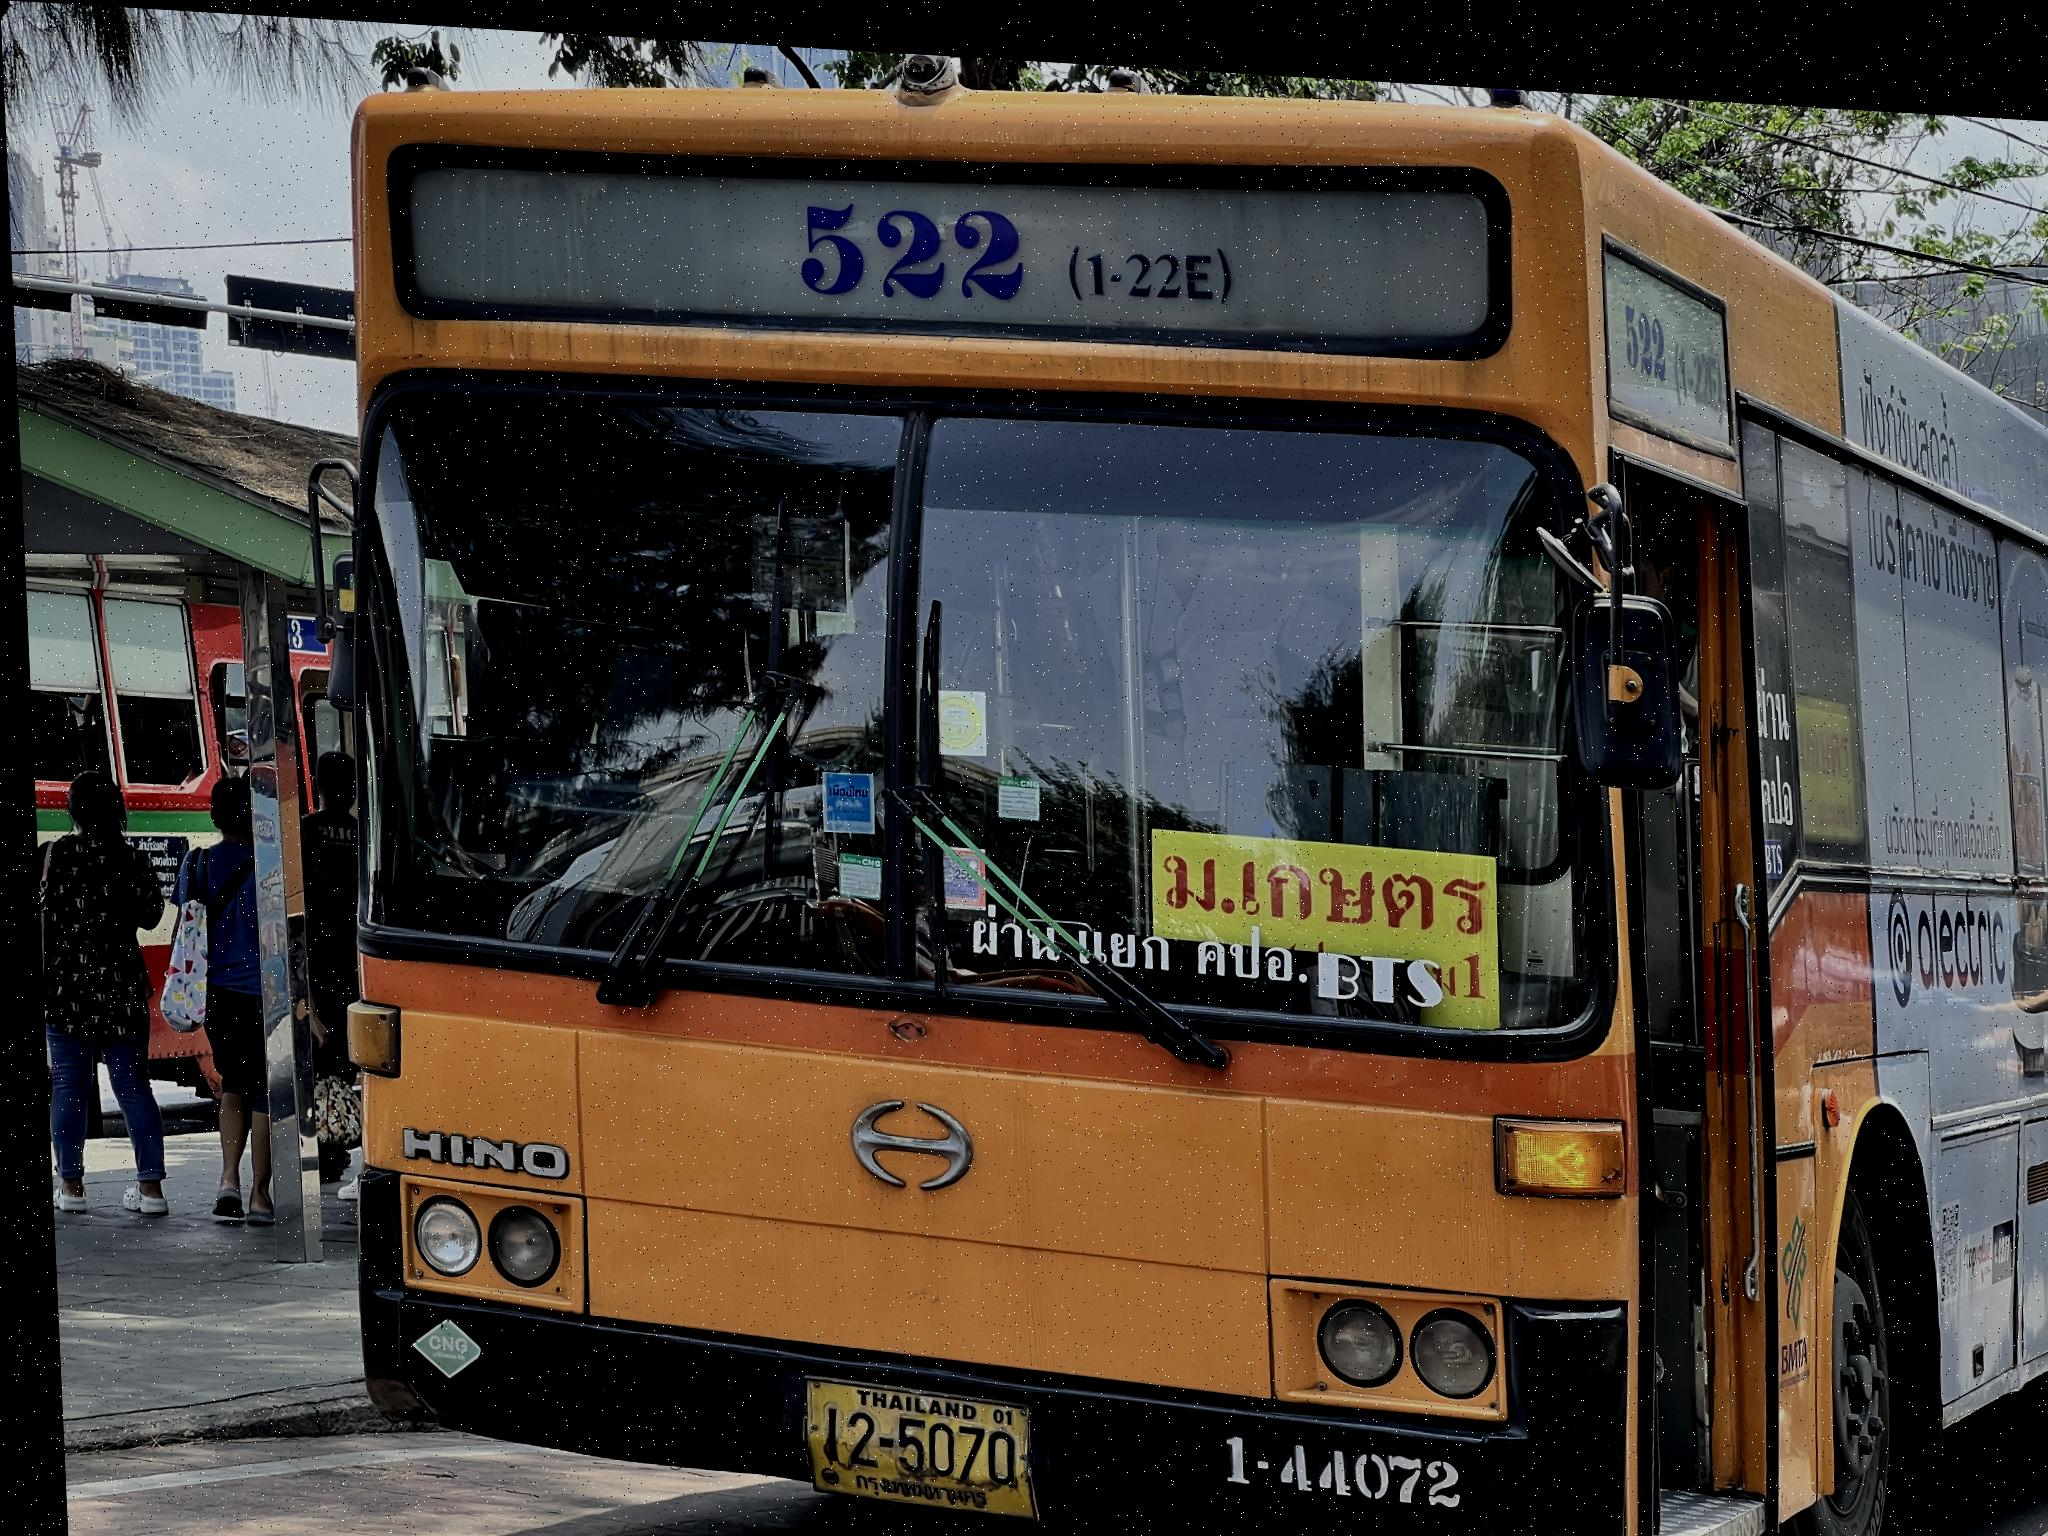BMTA-bus: (334, 76, 2048, 1536)
Bus Line Number: (764, 169, 1247, 326)
Bus Side Number: (1208, 1407, 1469, 1505)
Destination Sign: (1137, 820, 1500, 1020)
